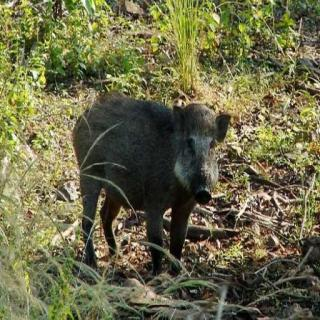Pig: (57, 66, 237, 294)
